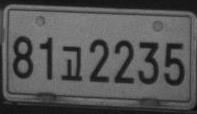1: (37, 37, 59, 80)
2: (113, 39, 135, 84), (88, 38, 109, 82)
3: (137, 41, 160, 84)
5: (164, 42, 185, 86)
8: (11, 35, 33, 79)
고: (61, 45, 82, 81)
